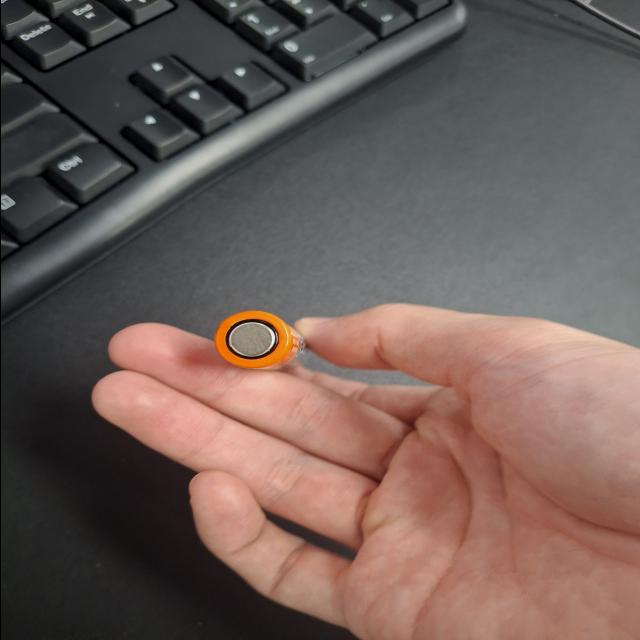AA: (147, 160, 225, 228)
